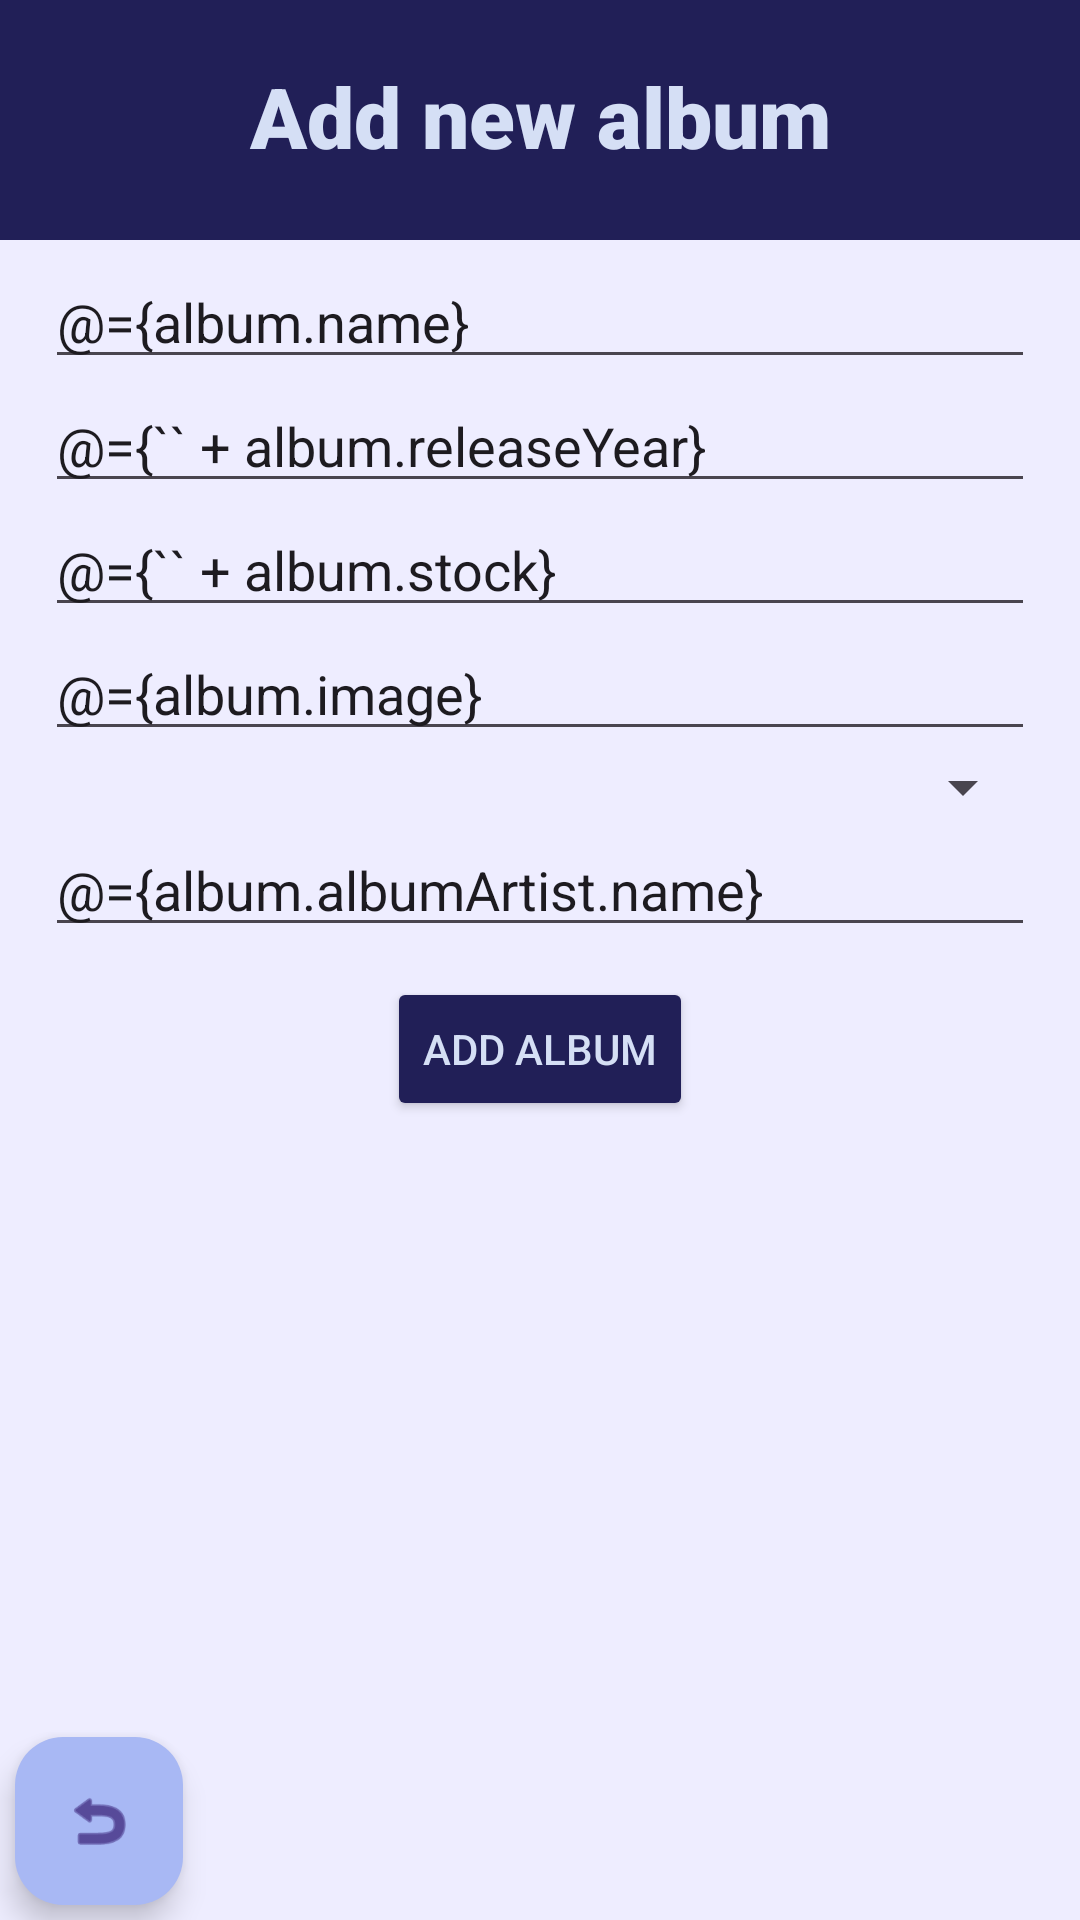

Locate icon controls on the screen. Image size 1080 × 1920, boxes as (x1, y1, x2, y2).
revert: (15, 1737, 183, 1905)
